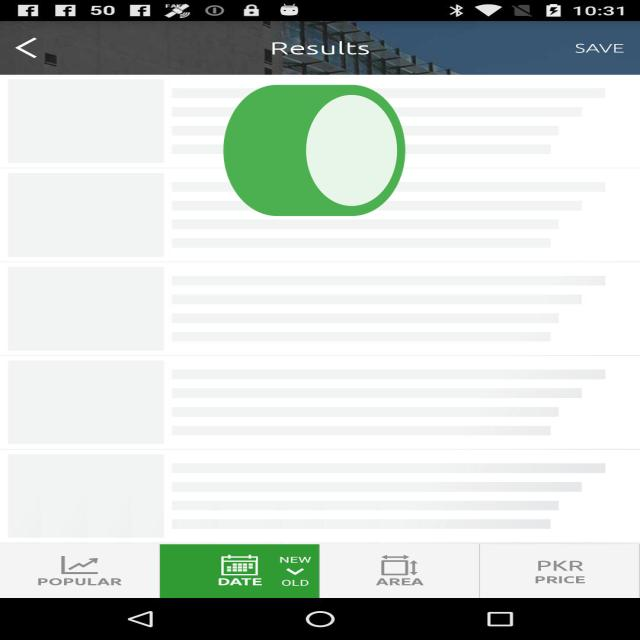social proof: (215, 34, 414, 277)
